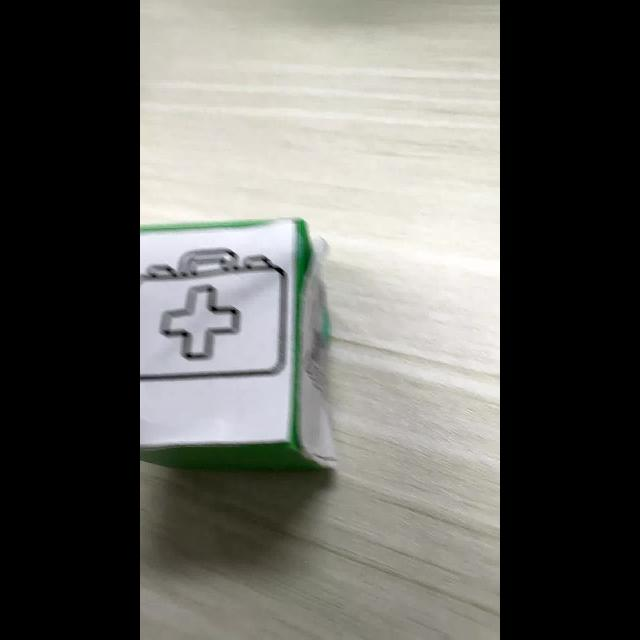Medkit: (140, 248, 288, 381)
